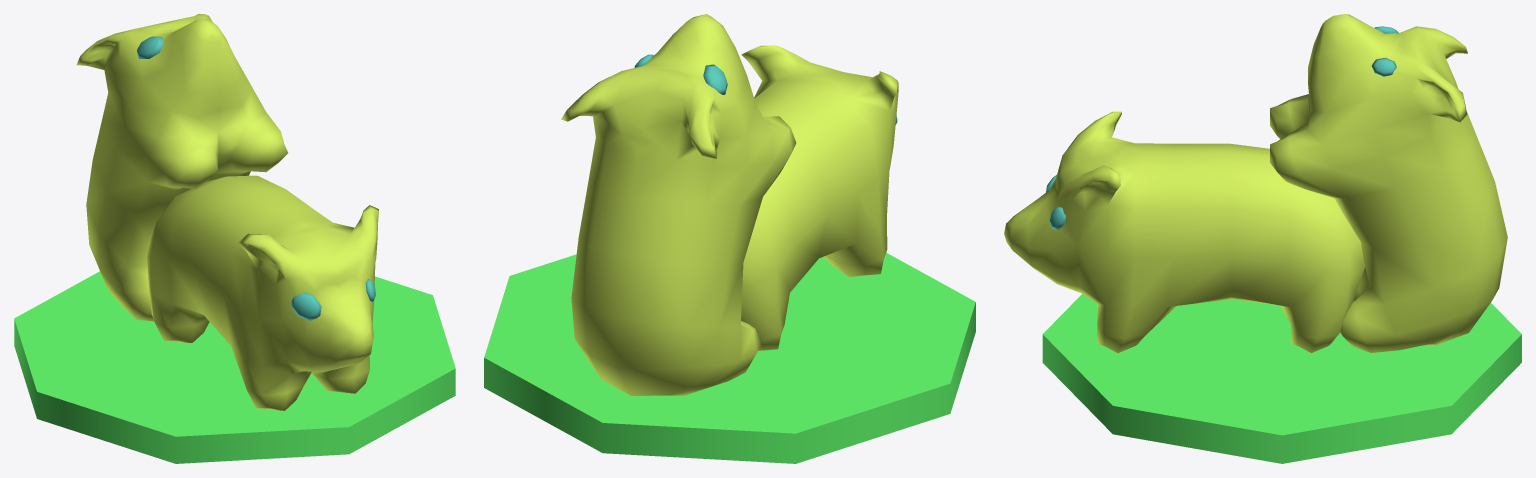
Rendered from SM_Bibelot.FBX.
The picture shows the model from 3 angles, left to right: view 1: azimuth 30°, elevation 25°; view 2: azimuth 150°, elevation 25°; view 3: azimuth 270°, elevation 25°; orthographic projection. The views are drawn at different scales.
Visible parts, largest first — view 1: Cylinder001; view 2: Cylinder001; view 3: Cylinder001.
Part boxes in pixels (left/top/right/bottom): Cylinder001: left=14, top=14, right=455, bottom=463; Cylinder001: left=484, top=14, right=975, bottom=463; Cylinder001: left=1004, top=14, right=1521, bottom=463.
Bounding box in the file's own units: 30.57 × 24.43 × 33.03.
